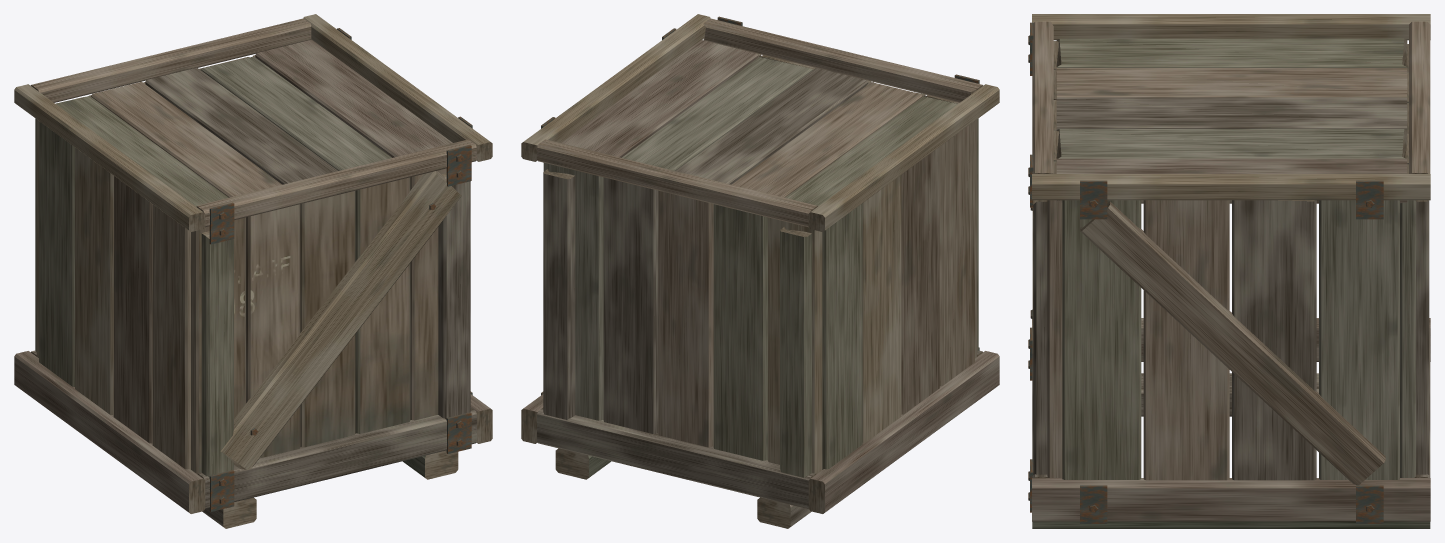
File: dock-props-crate-1.glb
3 renders of one model, left to right at view 1: azimuth 30°, elevation 25°; view 2: azimuth 150°, elevation 25°; view 3: azimuth 270°, elevation 25°, orthographic. The views are drawn at different scales.
Visible parts, largest first — view 1: DockCargoCrate_01; view 2: DockCargoCrate_01; view 3: DockCargoCrate_01.
Boxes of the visible parts, bbox=[...] form: DockCargoCrate_01: bbox=[14, 14, 492, 528]; DockCargoCrate_01: bbox=[521, 14, 999, 528]; DockCargoCrate_01: bbox=[1028, 14, 1430, 528].
Bounding box in the file's own units: 1.39 × 1.41 × 1.39.
Materials: 1 (1 with a texture image).
